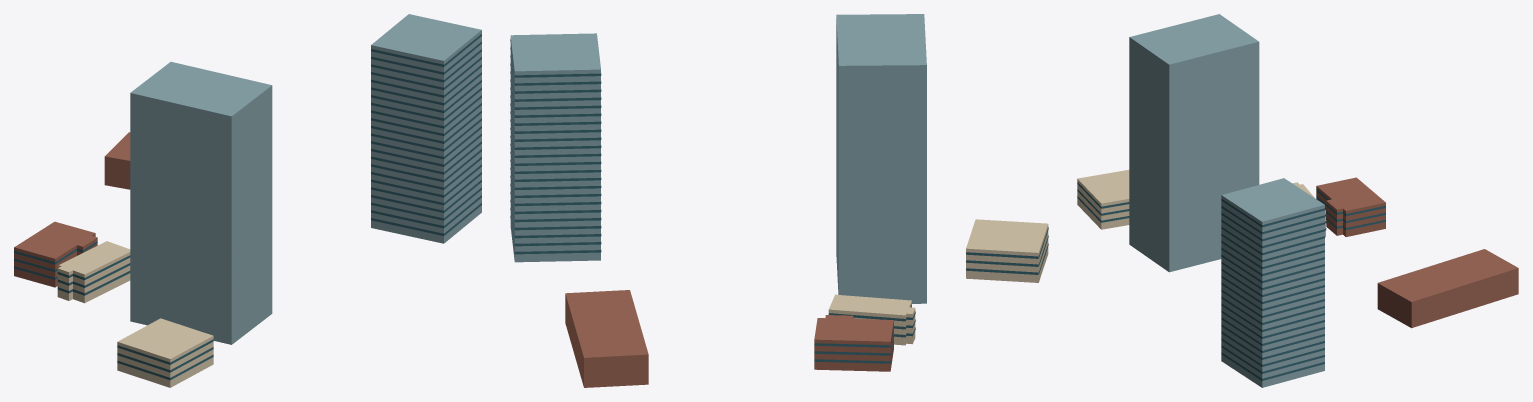
File: city_2_-6.glb
3 views of the same model, side by side, from view 1: azimuth 30°, elevation 25°; view 2: azimuth 150°, elevation 25°; view 3: azimuth 270°, elevation 25° (orthographic). The views are drawn at different scales.
Parts seen in each view (by area): view 1: city_2_-6; view 2: city_2_-6; view 3: city_2_-6.
Boxes of the visible parts, bbox=[...] form: city_2_-6: bbox=[14, 14, 481, 387]; city_2_-6: bbox=[510, 14, 1048, 387]; city_2_-6: bbox=[1077, 14, 1518, 387].
Bounding box in the file's own units: 237 × 119 × 229.
